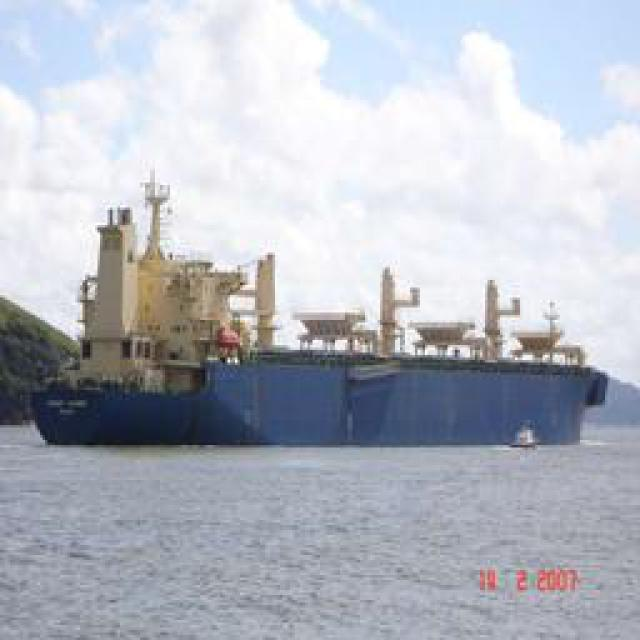Ship: (29, 314, 604, 449)
